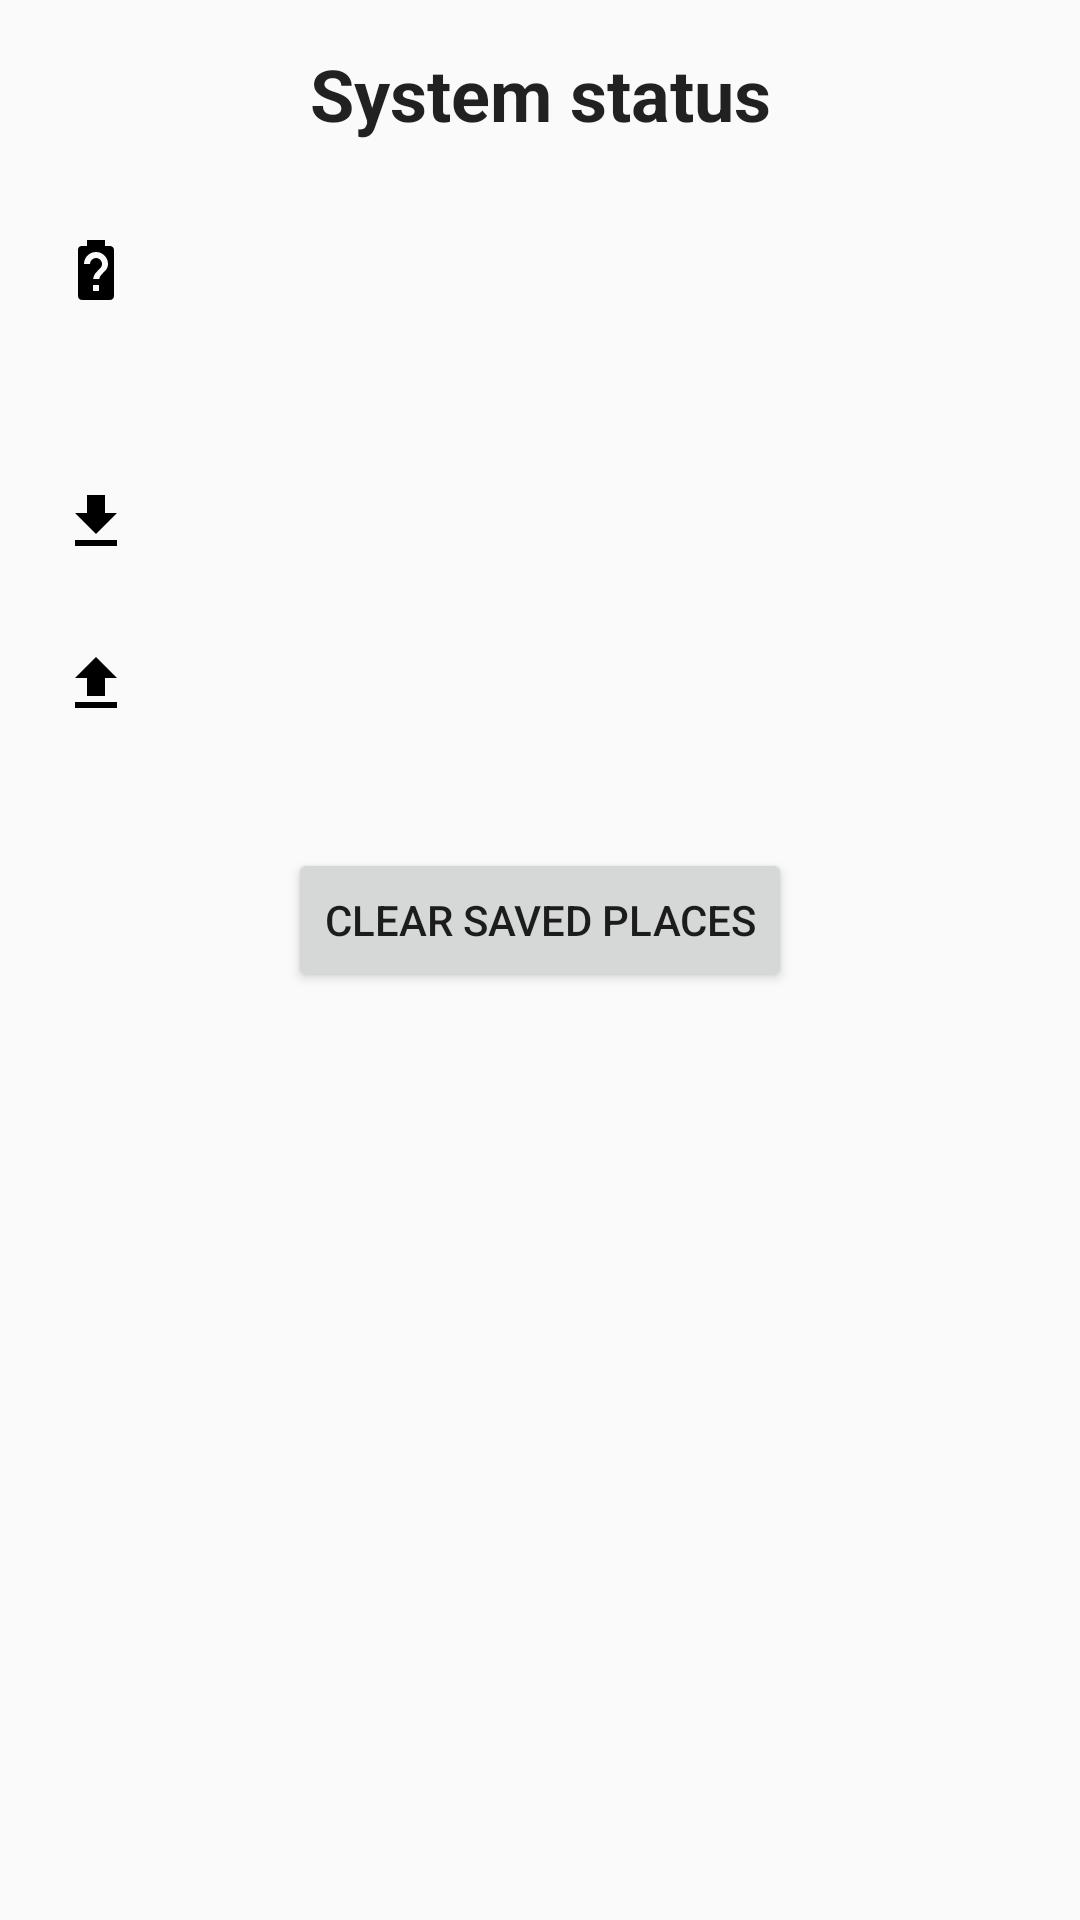

Named icons in this screenshot (1080px×1920px) and their centers, (x,y):
battery unknown: (96,270)
download: (96,520)
upload: (96,682)
